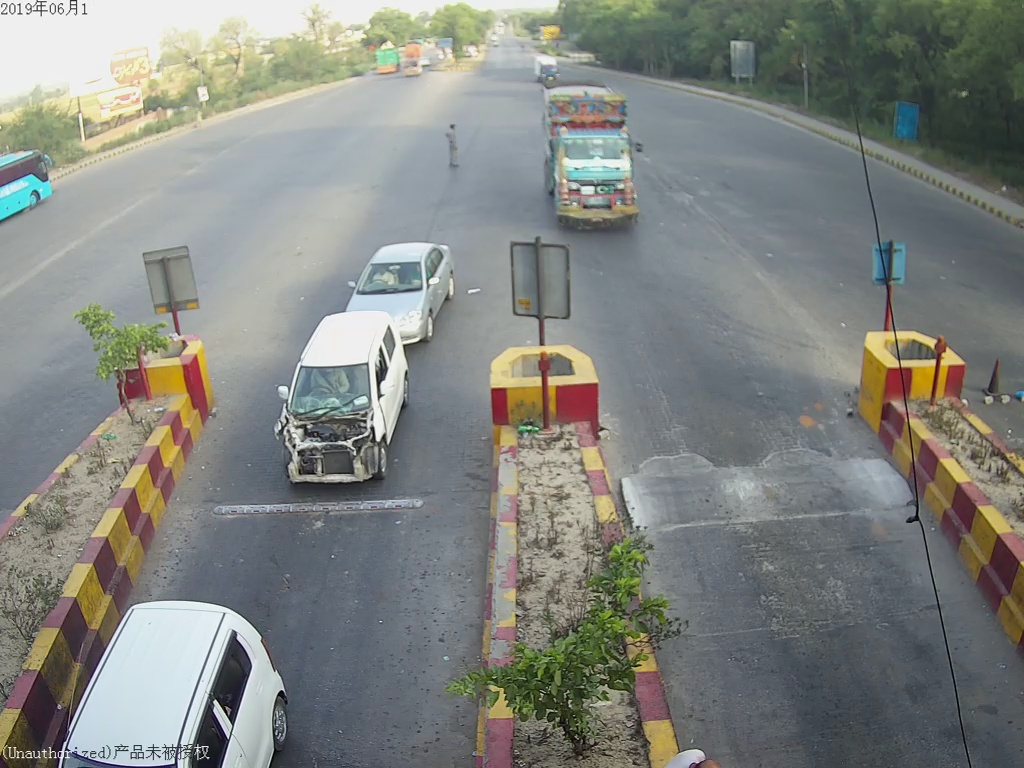Cat-1: (267, 310, 419, 493)
Cat-4: (540, 88, 648, 234)
